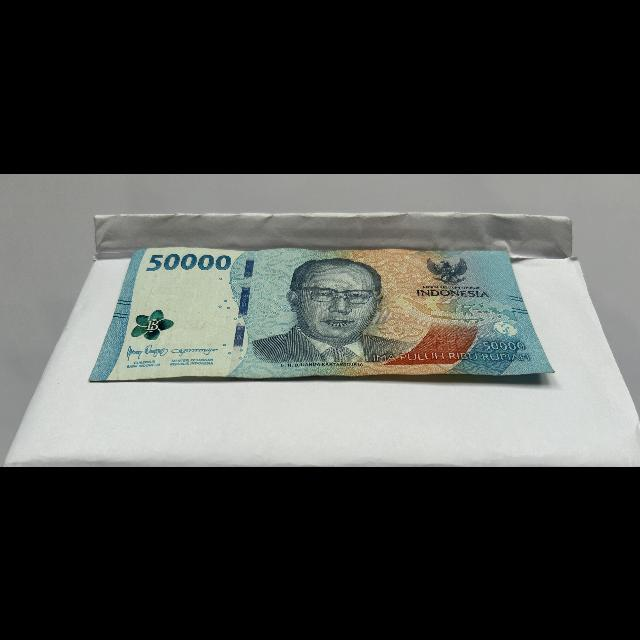Asli-50k: (83, 240, 562, 384)
Tinta-Asli-50k: (128, 306, 182, 342)
